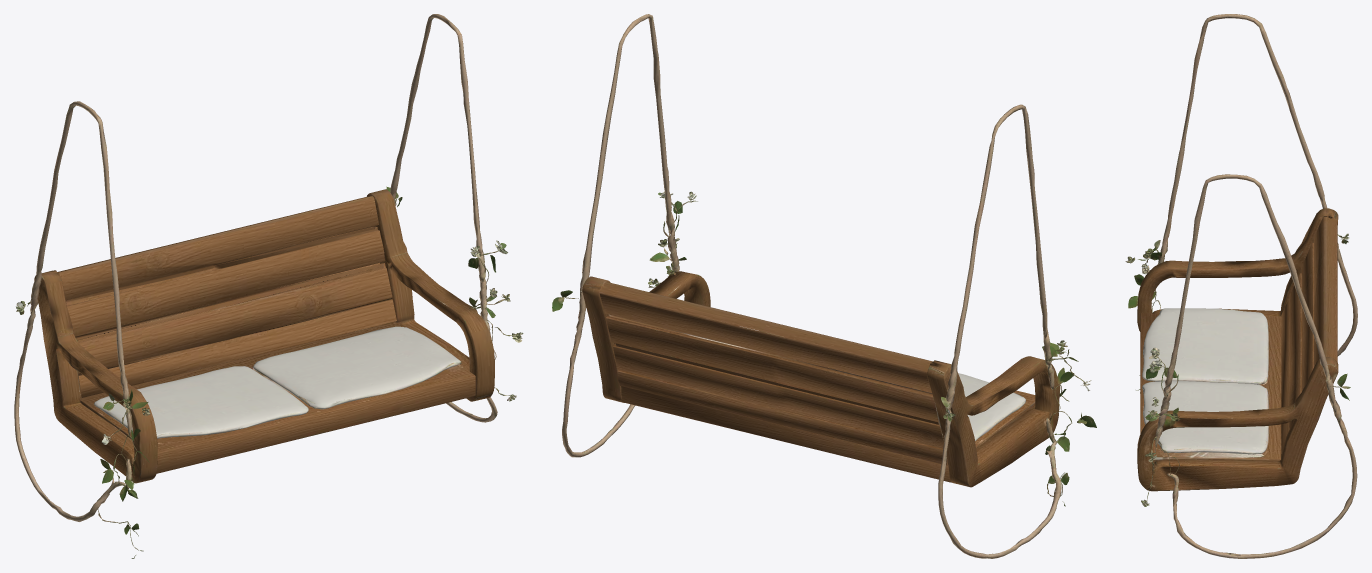
Rendered from swing.glb.
3 views of the same model, side by side, from view 1: azimuth 30°, elevation 25°; view 2: azimuth 150°, elevation 25°; view 3: azimuth 270°, elevation 25° (orthographic). The views are drawn at different scales.
Size of the model in its own units: 0.9531 by 0.8896 by 0.4922.
Materials: 1 (1 with a texture image).
